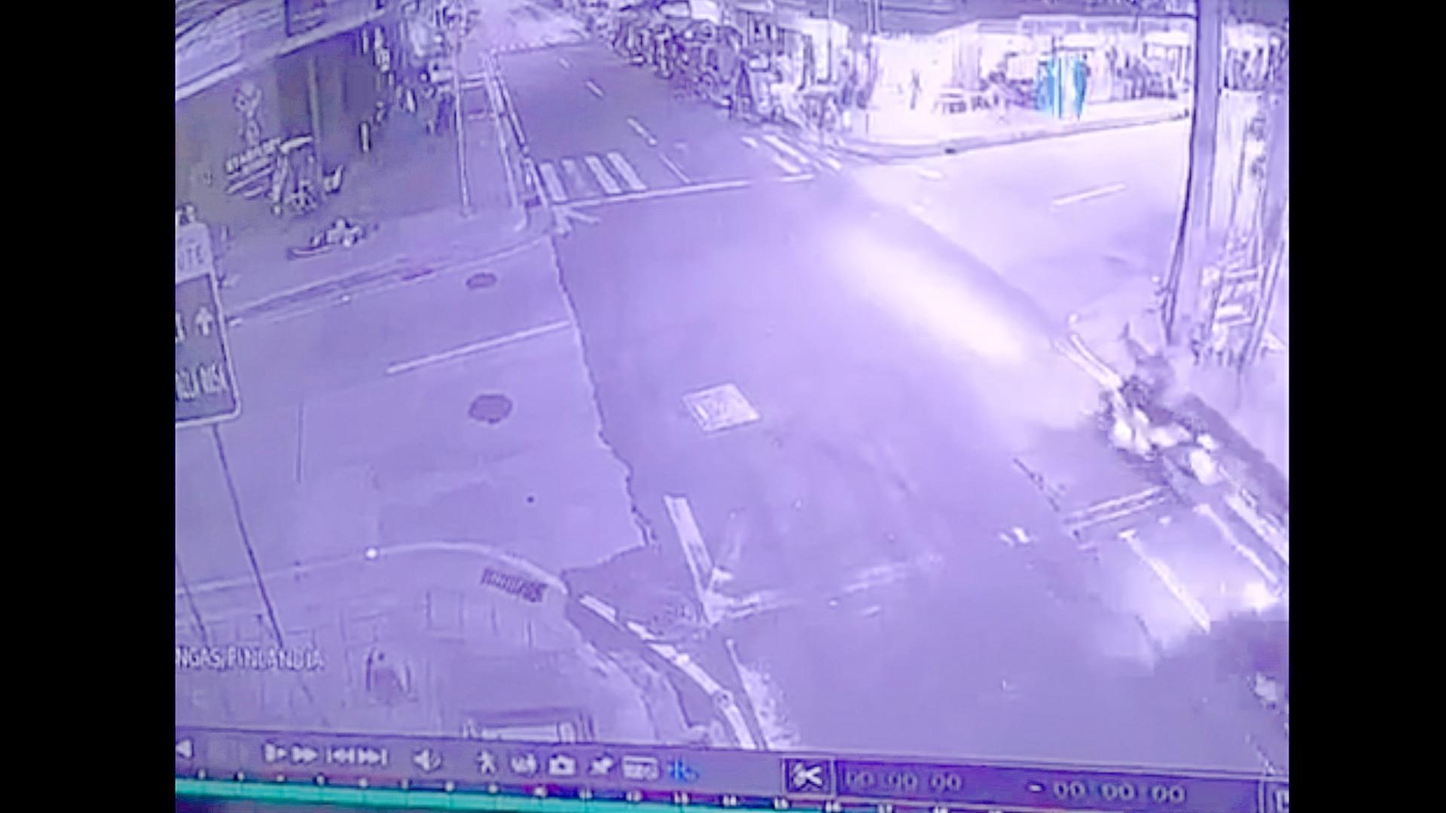Motor: (1104, 318, 1213, 501)
